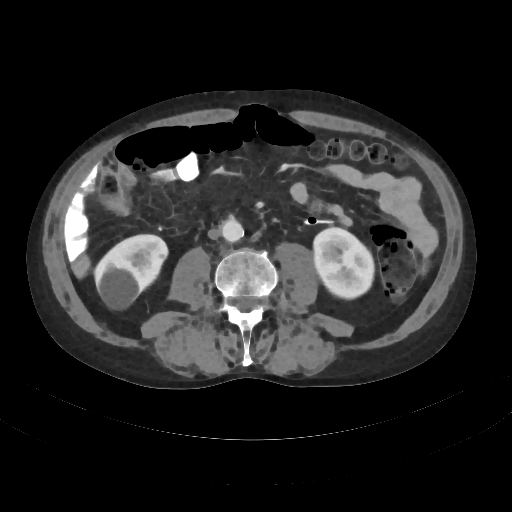Lesion: (97, 265, 141, 314)
